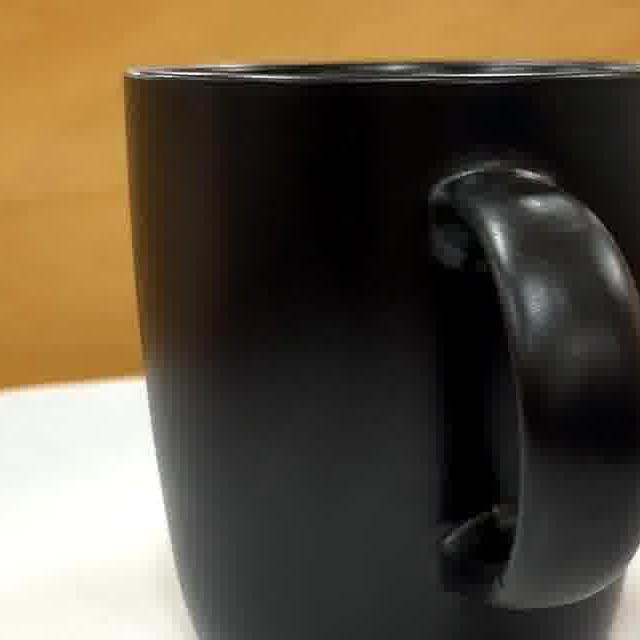cup: (131, 64, 640, 640)
